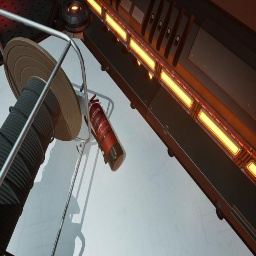FireExtinguisher ]: (84, 94, 124, 172)
